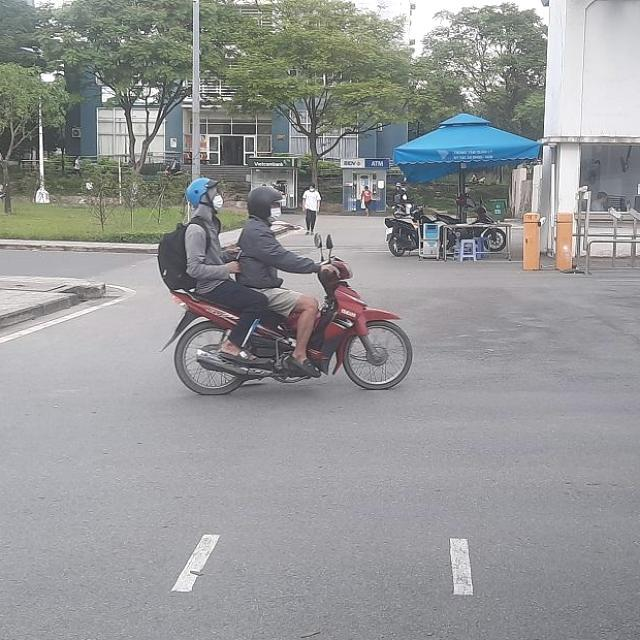Helmet: (184, 179, 224, 215), (249, 186, 284, 225)
